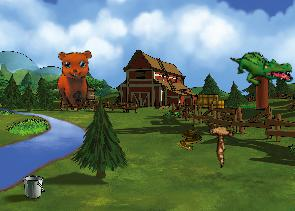bear: (50, 45, 103, 111)
crocodile: (230, 46, 294, 90)
eagle: (192, 109, 249, 168)
